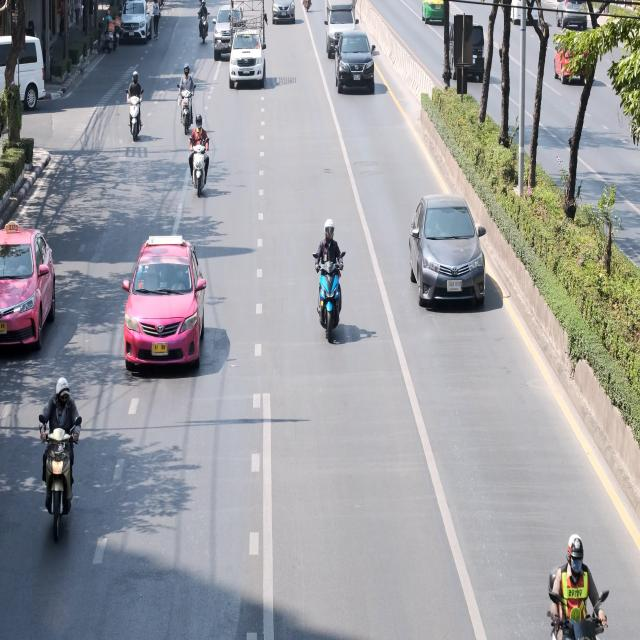cars: (112, 227, 217, 393), (391, 189, 505, 313), (0, 215, 60, 368), (434, 5, 491, 94), (534, 27, 602, 91), (0, 28, 48, 118), (224, 22, 270, 98), (333, 31, 378, 98), (207, 0, 251, 58), (320, 0, 361, 53), (403, 0, 462, 34), (119, 0, 152, 43), (550, 0, 594, 28), (503, 0, 537, 36), (260, 0, 304, 27)
motorcycle: (30, 353, 90, 552), (536, 530, 614, 640), (303, 208, 353, 354), (170, 54, 202, 136), (187, 108, 212, 204), (122, 65, 148, 144), (196, 0, 212, 45)
